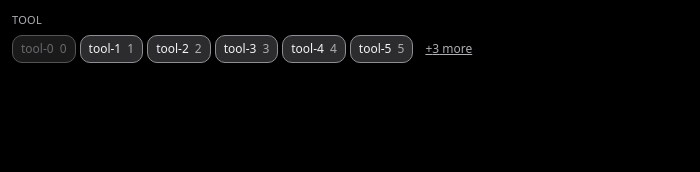
Test case: FacetFilter › expands to the full list on demand
What coordinates should you click on to do the following:
click the button "+3 more"
I would click on:
 (449, 48)
Its box is [417, 34, 480, 62].
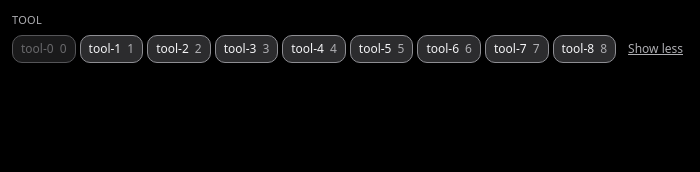
expect the button "tool-8 8" is shown: met, box [552, 34, 616, 62]
